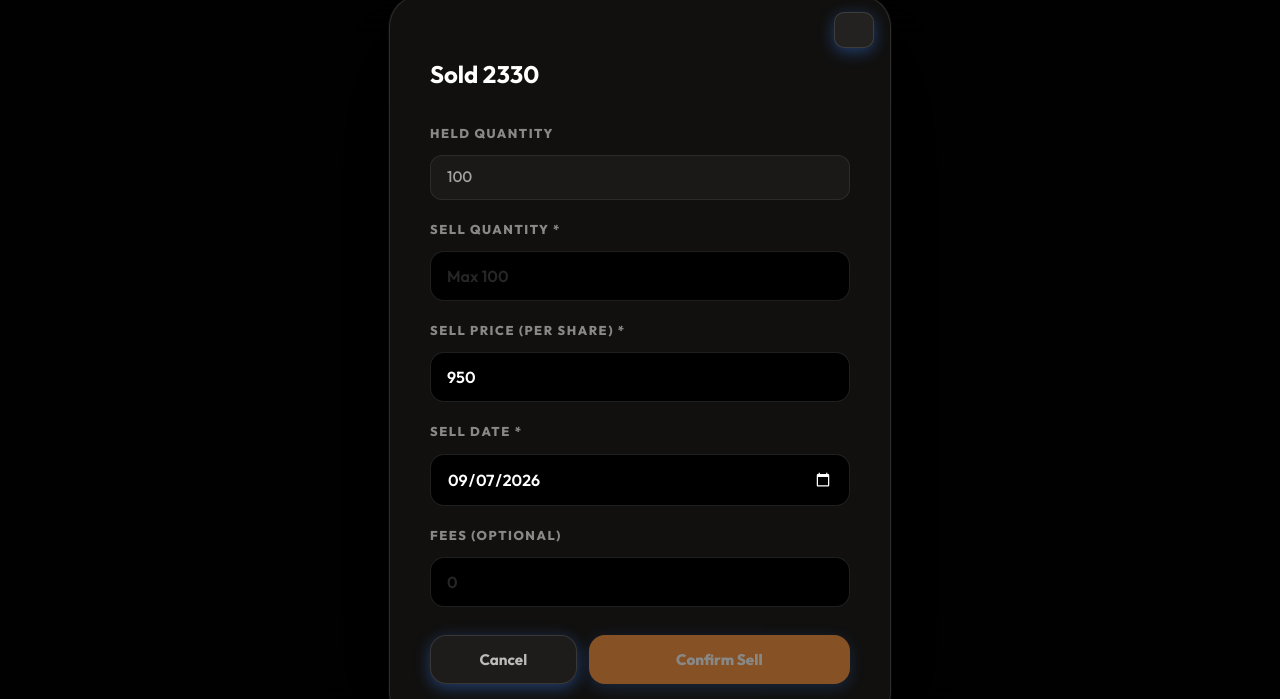
Test: SellAssetModal › shows error when qty exceeds holdings
In the number field with placeholder "Max 100": (640, 276) [430,251,850,301], type "999"
(page scrolled)
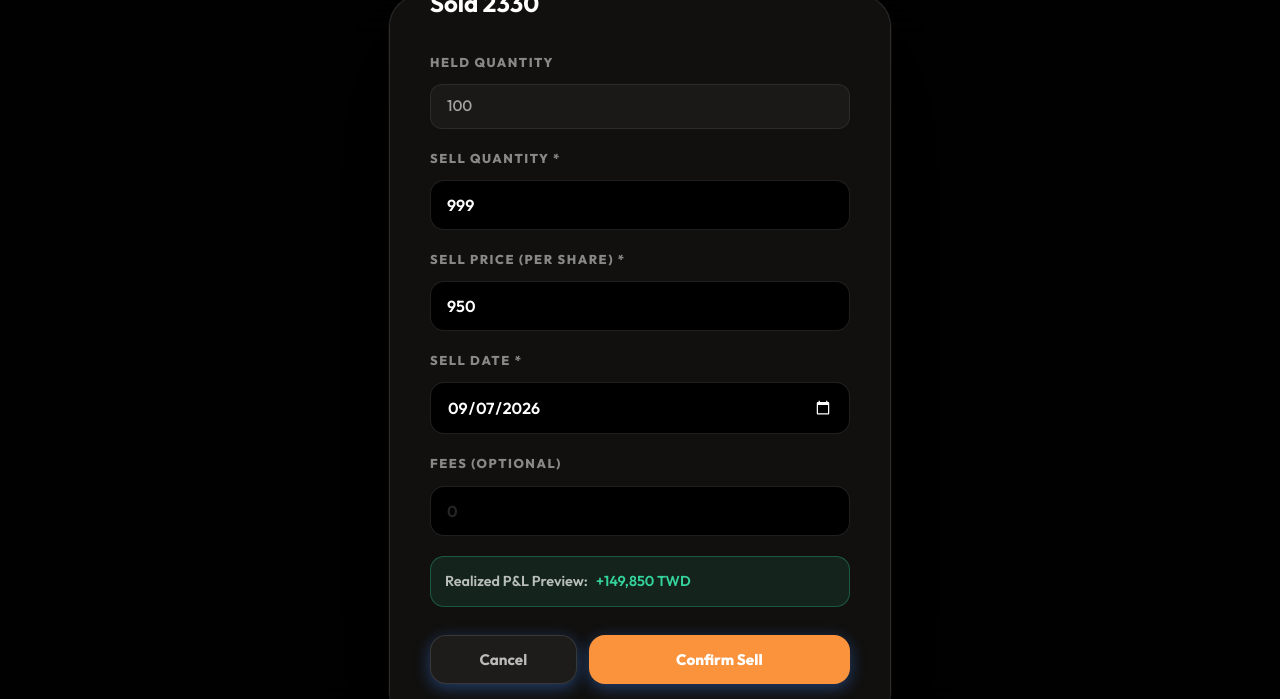
Click the button "Confirm Sell": (719, 660) [589,635,850,684]
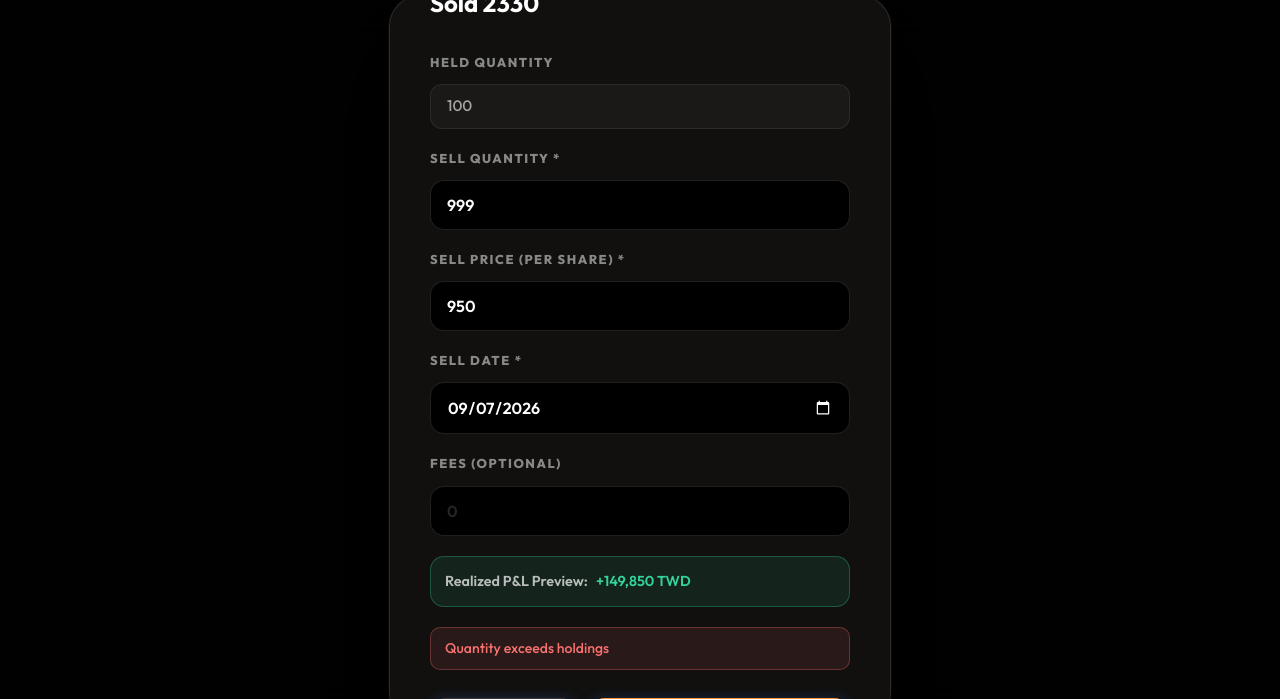
Result: the text "Quantity exceeds holdings" is shown at [430,627,850,670]
